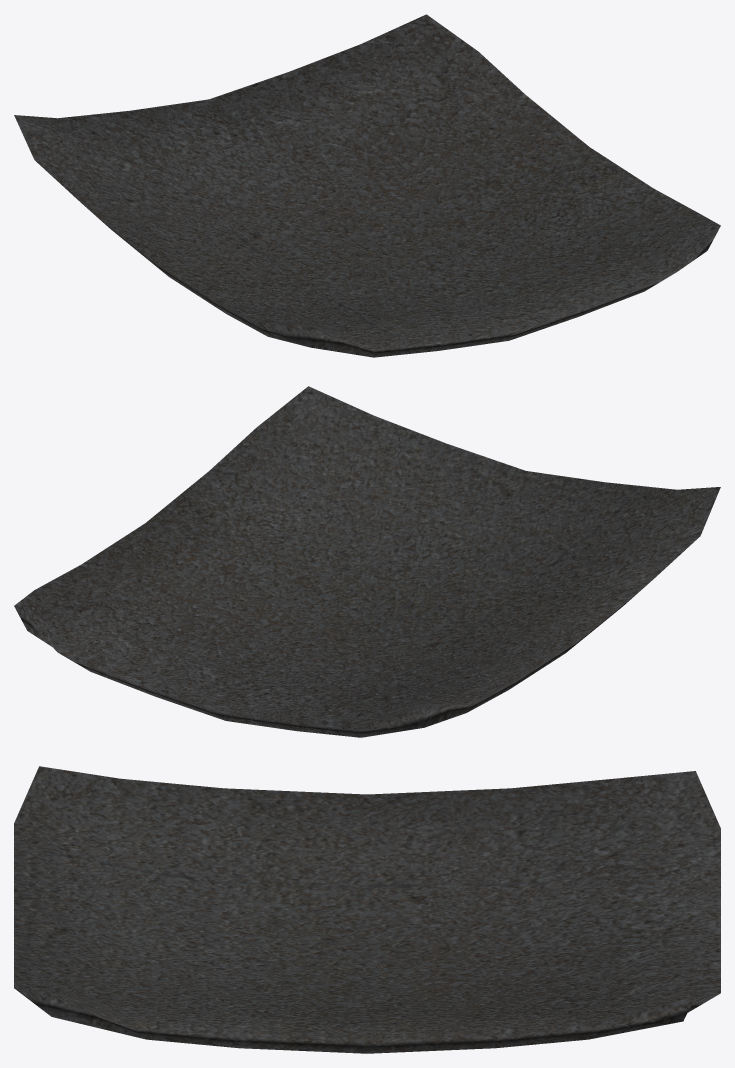
File: SushiDish.fbx
The picture shows the model from 3 angles, top to bottom: view 1: azimuth 30°, elevation 25°; view 2: azimuth 150°, elevation 25°; view 3: azimuth 270°, elevation 25°; orthographic projection. The views are drawn at different scales.
Parts seen in each view (by area): view 1: pCylinder1; view 2: pCylinder1; view 3: pCylinder1.
Part boxes in pixels (box(x1,y1,x2,y2)): pCylinder1: box(14, 14, 720, 357); pCylinder1: box(14, 386, 720, 737); pCylinder1: box(14, 766, 720, 1053).
Size of the model in its own units: 6.8 by 1.39 by 8.41.
